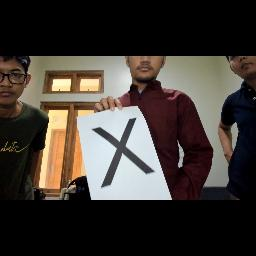x: (88, 116, 160, 190)
